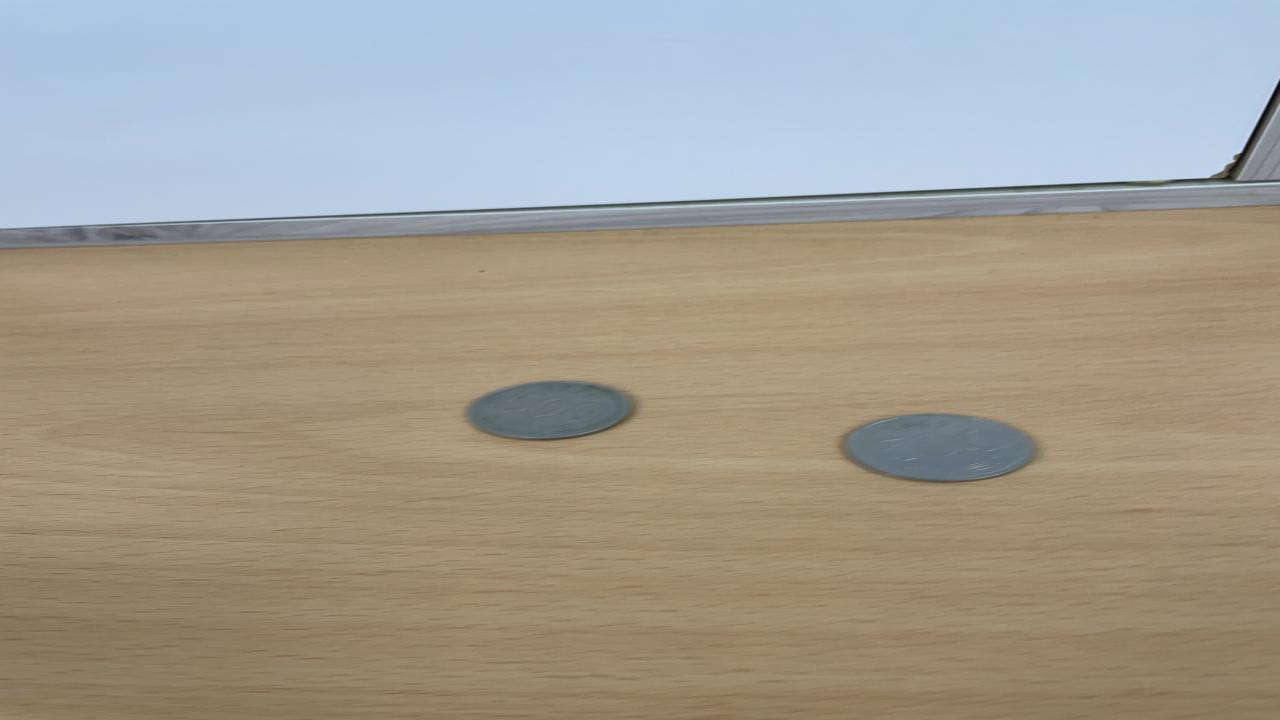coin: (833, 410, 1042, 485), (460, 379, 637, 443)
